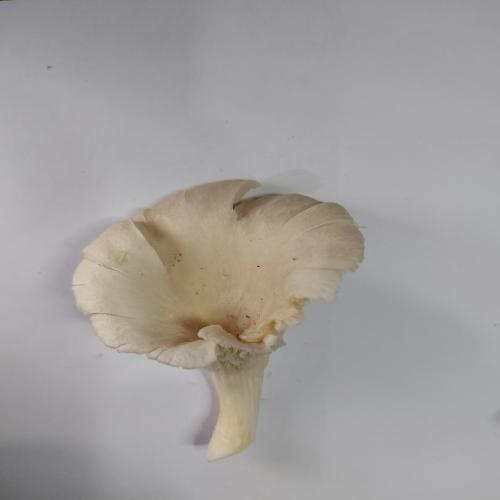Oyster Mushroom: (71, 177, 367, 462)
